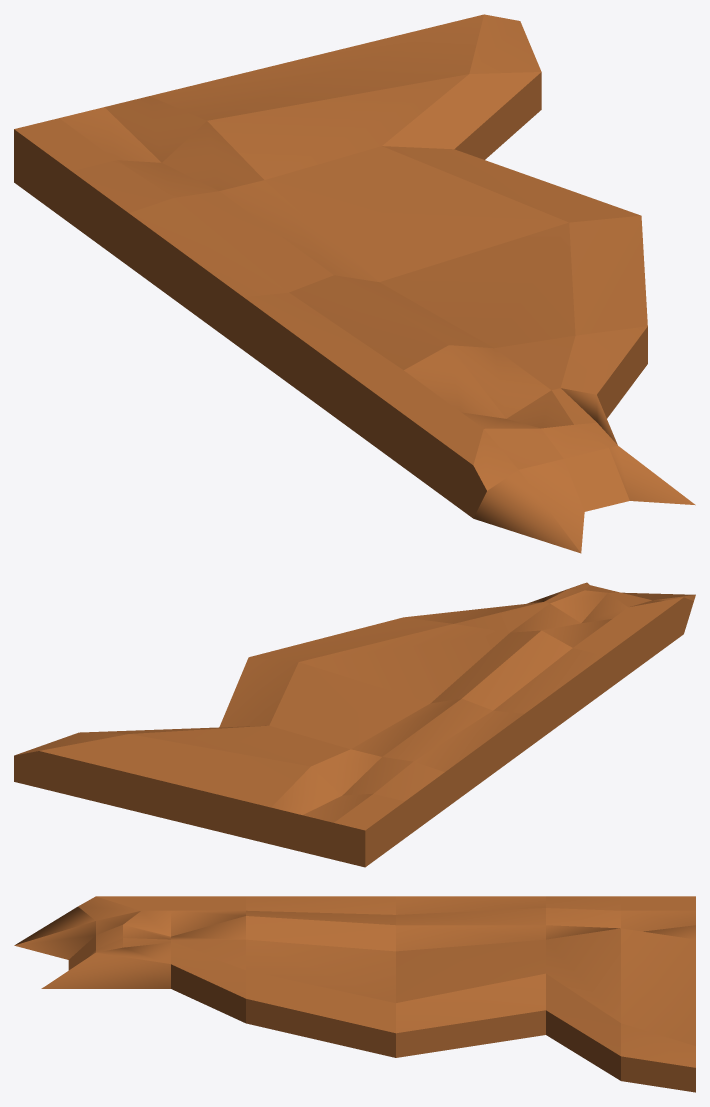
Rendered from DirtA.obj.
3 renders of one model, top to bottom at view 1: azimuth 30°, elevation 25°; view 2: azimuth 150°, elevation 25°; view 3: azimuth 270°, elevation 25°, orthographic. The views are drawn at different scales.
Visible parts, largest first — view 1: DirtA; view 2: DirtA; view 3: DirtA.
Part boxes in pixels (<box>): DirtA: <box>14,14,695,553</box>; DirtA: <box>14,582,695,867</box>; DirtA: <box>14,896,695,1092</box>.
Size of the model in its own units: 1.4 by 0.1864 by 2.5.
